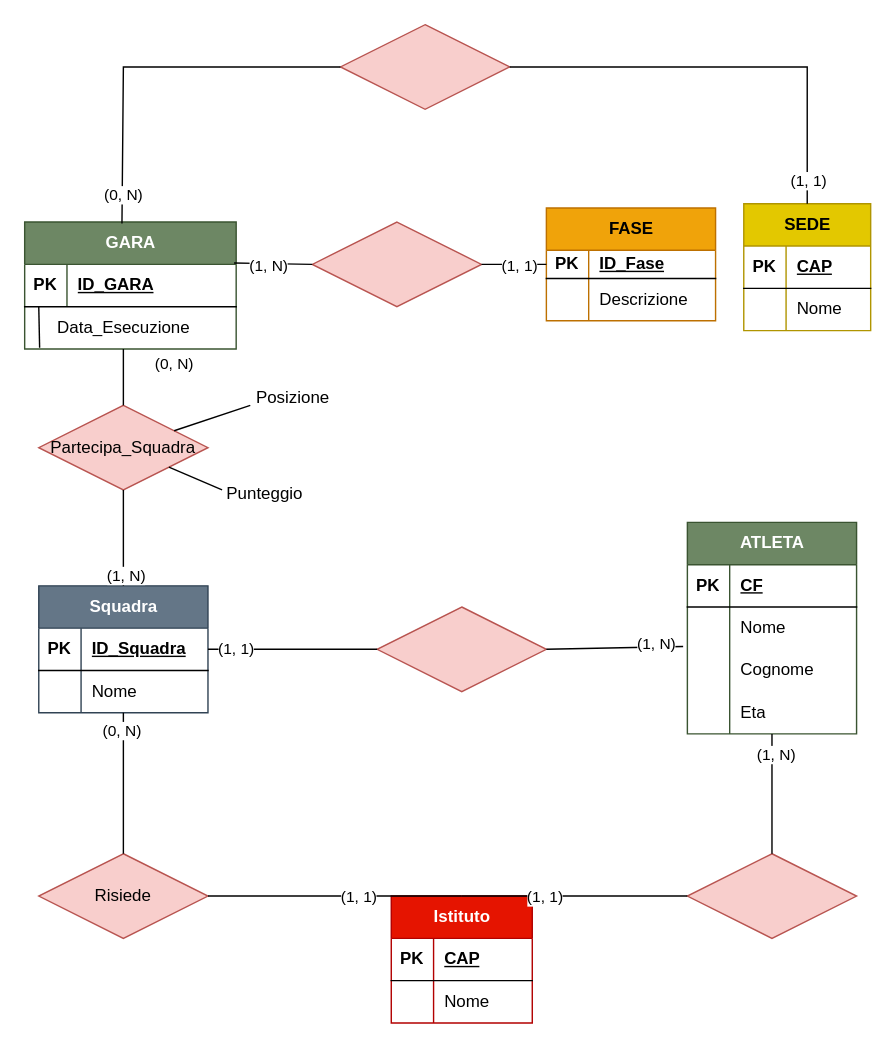
This 895x1048 diagram has some shape labels left out. Each missing label, with the centre of its shape:
Iscritto: point (461, 649)
Livello: point (396, 264)
Organizza: point (424, 66)
Studia: point (771, 895)
